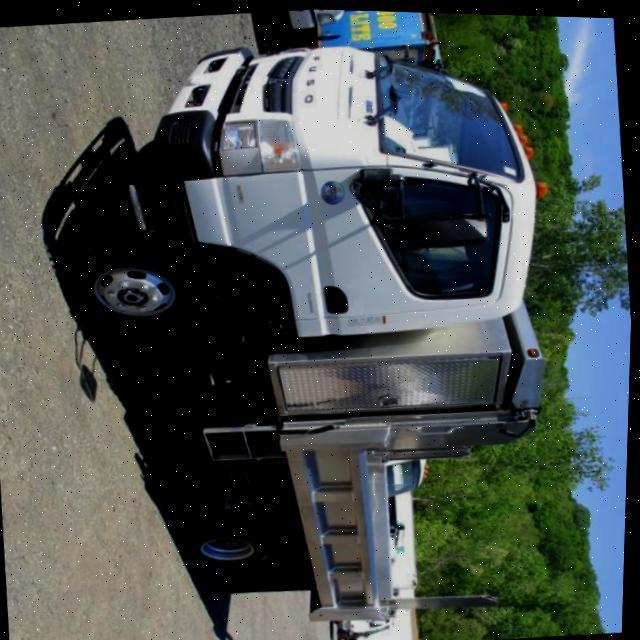truck: (50, 17, 572, 640), (333, 602, 442, 640)
